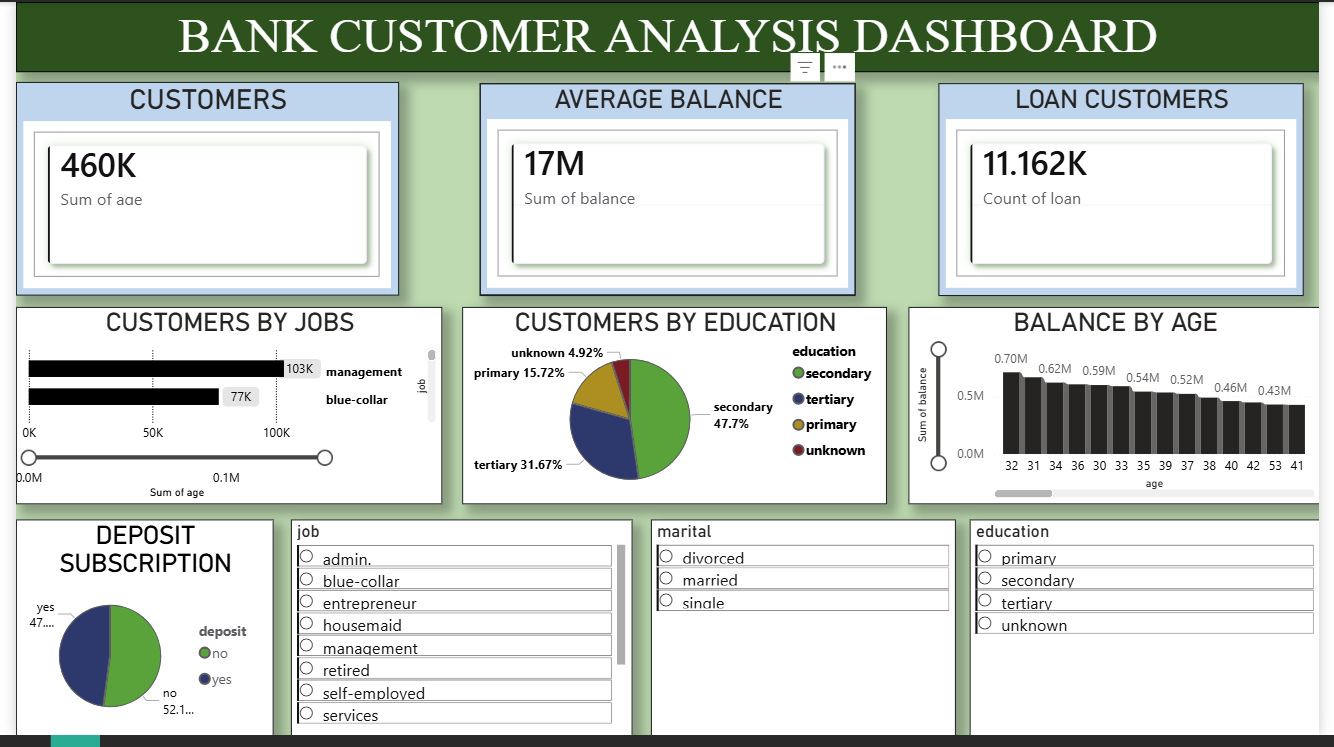

The dashboard page shown, as its layout file describes it:
{"tool":"powerbi","page":{"name":"Page 1","canvas":[1280,720],"ordinal":0},"visuals":[{"type":"textbox","box":[0,0,1280.3,68.6],"z":0},{"type":"cardVisual","title":"CUSTOMERS","fields":{"Data":["Sum(bank.age)"]},"box":[0,78.2,376,209.9],"z":1000},{"type":"cardVisual","title":"AVERAGE BALANCE","fields":{"Data":["Sum(bank.balance)"]},"box":[455.6,79.6,369.1,208.6],"z":2000},{"type":"cardVisual","title":"LOAN CUSTOMERS","fields":{"Data":["CountNonNull(bank.loan)"]},"box":[905.7,79.6,358.1,208.6],"z":3000},{"type":"clusteredBarChart","title":"CUSTOMERS BY JOBS","fields":{"Category":["bank.job"],"Y":["Sum(bank.age)"]},"box":[0,299.1,418.5,193.5],"z":4000},{"type":"pieChart","title":"CUSTOMERS BY EDUCATION","fields":{"Category":["bank.education"],"Y":["Sum(bank.age)"]},"box":[437.7,299.1,417.2,193.5],"z":5000},{"type":"columnChart","title":"BALANCE BY AGE","fields":{"Category":["bank.age"],"Y":["Sum(bank.balance)"]},"box":[875.5,299.1,404.8,193.5],"z":6000},{"type":"pieChart","title":"DEPOSIT SUBSCRIPTION","fields":{"Category":["bank.deposit"],"Y":["Sum(bank.age)"]},"box":[0,507.7,252.5,212.7],"z":7000},{"type":"listSlicer","fields":{"Values":["bank.job"]},"box":[270.3,507.7,334.8,212.7],"z":8000},{"type":"listSlicer","fields":{"Values":["bank.marital"]},"box":[623,507.7,299.1,212.7],"z":9000},{"type":"listSlicer","fields":{"Values":["bank.education"]},"box":[935.9,507.7,344.4,212.7],"z":10000}]}

Visuals, with their boxes in screenshot pixels (x1, y1, x2, y2), scaled from the page's 1280x720 canvas onto the 1334x747 screenshot:
textbox: bbox=[0, 0, 1333, 71]
"CUSTOMERS" cardVisual: bbox=[0, 81, 392, 299]
"AVERAGE BALANCE" cardVisual: bbox=[475, 83, 859, 299]
"LOAN CUSTOMERS" cardVisual: bbox=[944, 83, 1317, 299]
"CUSTOMERS BY JOBS" clusteredBarChart: bbox=[0, 310, 436, 511]
"CUSTOMERS BY EDUCATION" pieChart: bbox=[456, 310, 891, 511]
"BALANCE BY AGE" columnChart: bbox=[912, 310, 1333, 511]
"DEPOSIT SUBSCRIPTION" pieChart: bbox=[0, 527, 263, 746]
listSlicer - bank.job: bbox=[282, 527, 631, 746]
listSlicer - bank.marital: bbox=[649, 527, 961, 746]
listSlicer - bank.education: bbox=[975, 527, 1333, 746]
